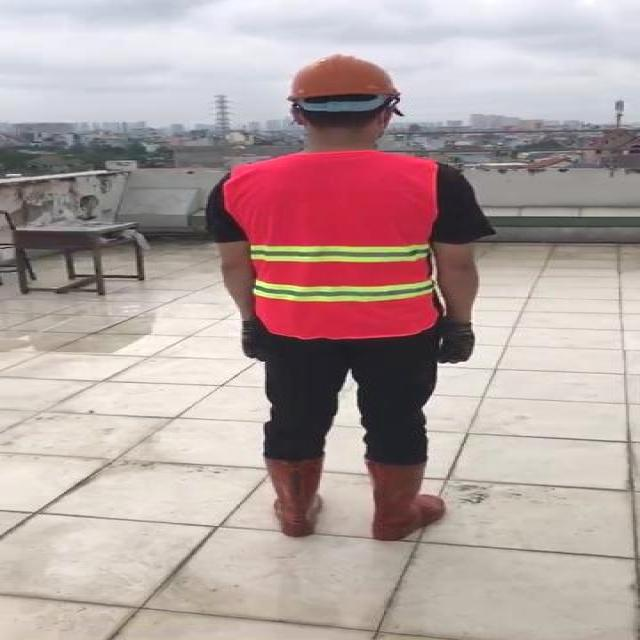boots: (363, 458, 446, 540), (263, 456, 325, 537)
hand_glove: (439, 320, 478, 364), (238, 321, 265, 362)
head_helmet: (283, 54, 402, 102)
person: (202, 52, 493, 546)
vest: (226, 151, 437, 339)
